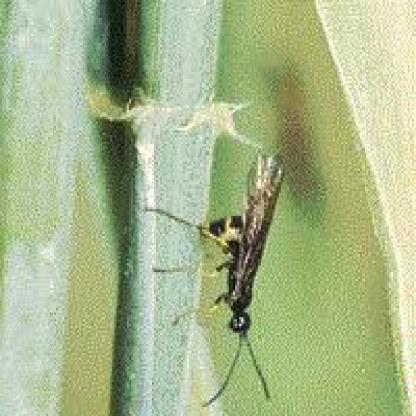sawfly: (143, 140, 290, 404)
